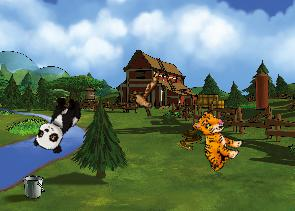eagle: (126, 69, 165, 118)
panda: (30, 90, 86, 157)
tiger: (179, 107, 249, 175)
